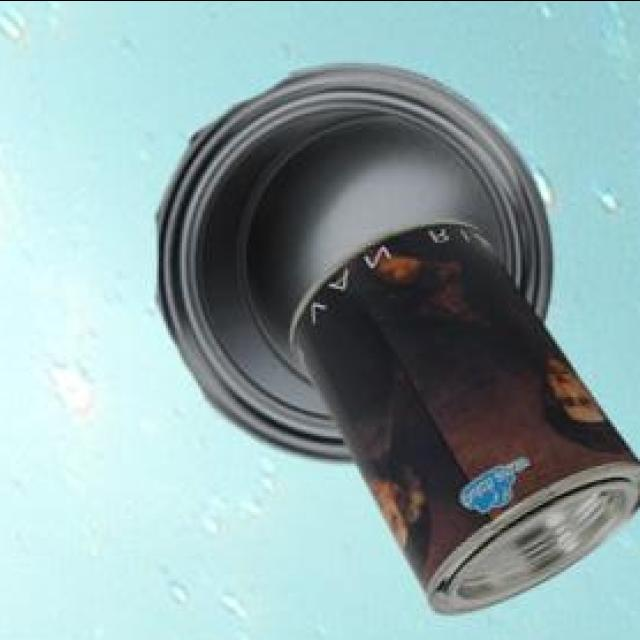logam: (153, 61, 549, 459), (287, 215, 640, 611)
